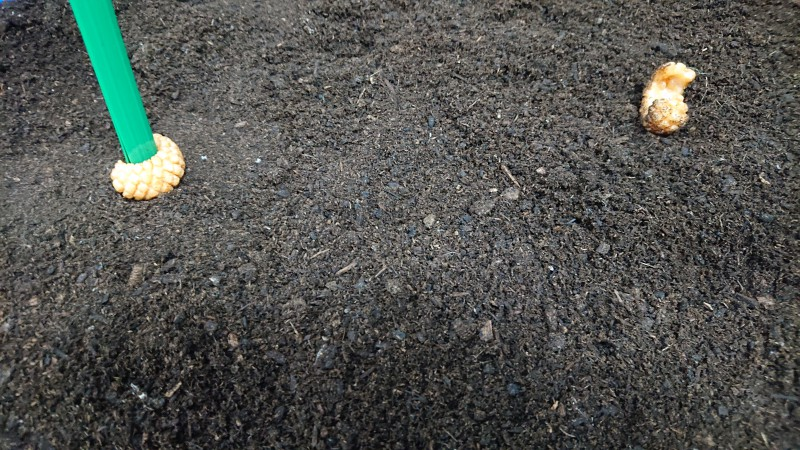eggs: (109, 123, 188, 202), (636, 55, 697, 134)
